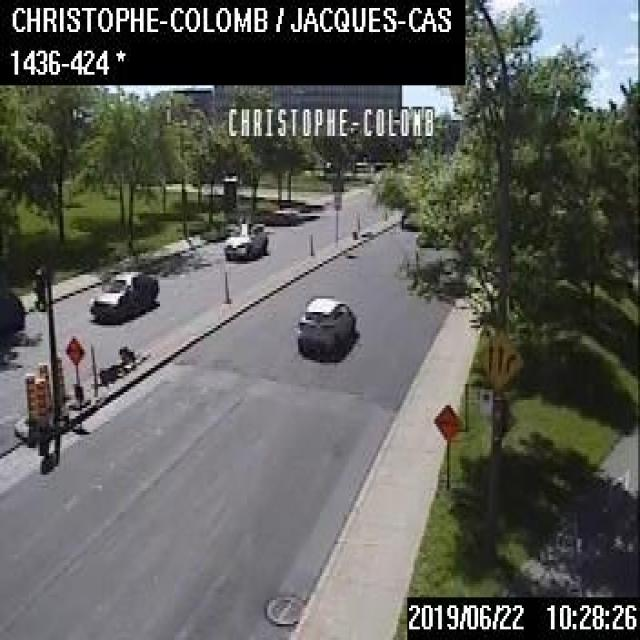construction: (431, 401, 462, 483), (64, 334, 86, 406), (36, 359, 51, 411), (23, 371, 35, 423), (33, 374, 44, 425), (55, 353, 66, 404)
vehicle: (89, 264, 158, 317), (296, 291, 355, 352), (222, 218, 268, 258), (0, 285, 25, 341)
